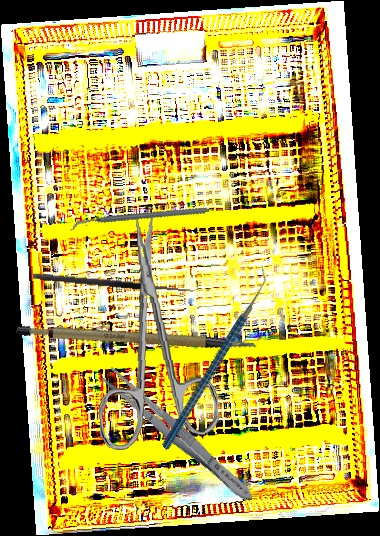Chopper: (114, 264, 314, 451), (70, 169, 208, 269)
Dressing Forceps: (97, 362, 260, 509)
Hook Surgical: (32, 264, 199, 296)
Iris Scissors: (88, 212, 221, 451)
Scalpel Handle: (14, 292, 259, 388)
